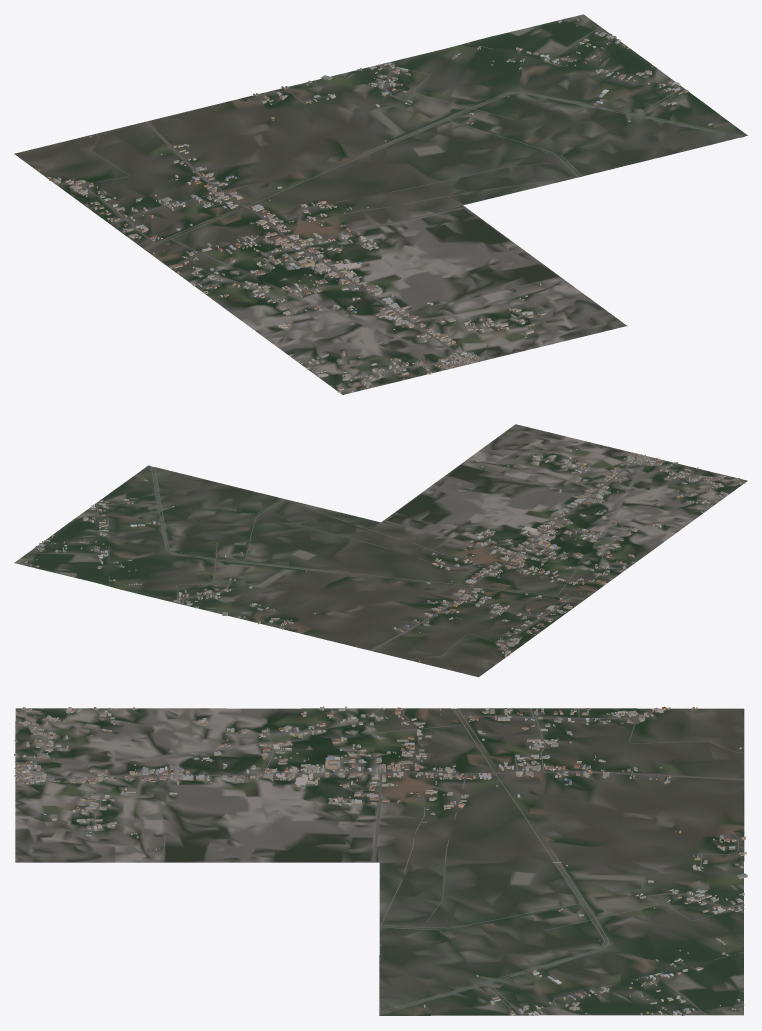
3 renders of one model, top to bottom at view 1: azimuth 30°, elevation 25°; view 2: azimuth 150°, elevation 25°; view 3: azimuth 270°, elevation 25°, orthographic. The views are drawn at different scales.
Visible parts, largest first — view 1: ground, buildings, roads; view 2: ground, buildings, roads; view 3: ground, buildings, roads.
Part boxes in pixels (x1,y1,x2,y2): ground: (14, 14, 747, 394); buildings: (35, 18, 712, 392); roads: (58, 18, 744, 387); ground: (14, 424, 747, 677); buildings: (24, 445, 745, 664); roads: (29, 453, 726, 660); ground: (15, 708, 744, 1015); buildings: (14, 706, 747, 1015); roads: (15, 708, 744, 1015).
Bounding box in the file's own units: 2812 × 17.39 × 2820.
